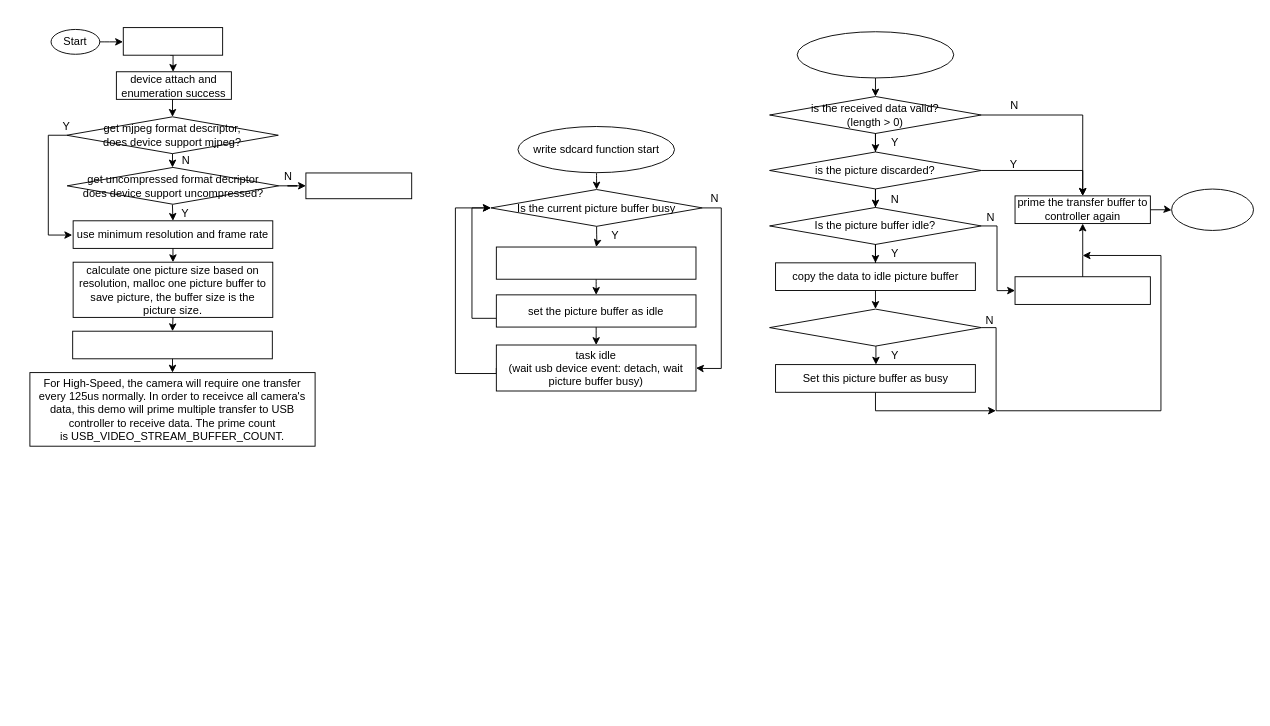
Some shapes in this 1270 by 726 pixel diagram are drawn without their labels. Each missing label, with the box of its shape:
callback function return: (1171, 188, 1254, 230)
create file and write picture to sdcard: (495, 246, 696, 279)
delay about 3s to wait the new resolution becomes effective: (72, 330, 272, 359)
don't support this camera: (305, 172, 412, 199)
Is the data last of one picture: (769, 308, 981, 346)
set this picture as discarded: (1014, 276, 1150, 304)
transfer is done, the transfer's callback function start: (796, 31, 954, 78)
wait device attach: (122, 27, 223, 55)
